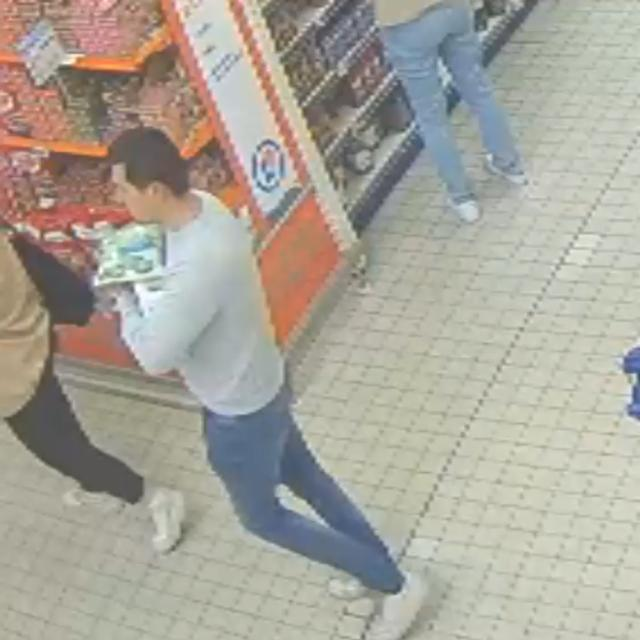article: (94, 225, 163, 287), (136, 270, 178, 316)
bags: (11, 234, 96, 326)
hands: (109, 289, 135, 319)
person: (110, 129, 426, 639), (0, 234, 184, 552), (375, 0, 526, 222)
